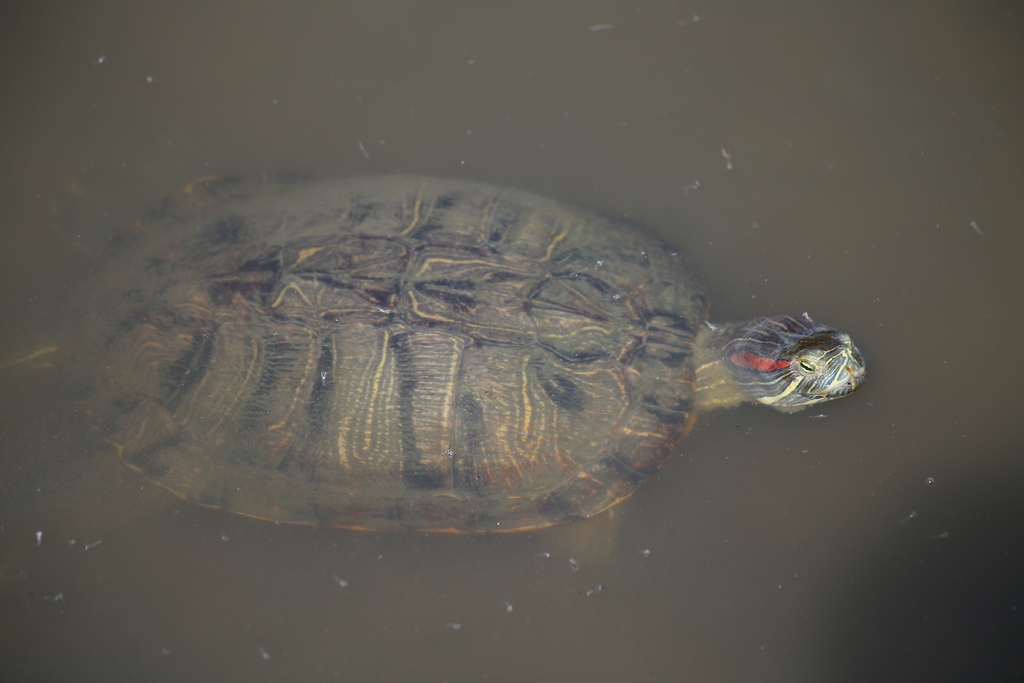Sea turtles: (71, 167, 866, 540)
